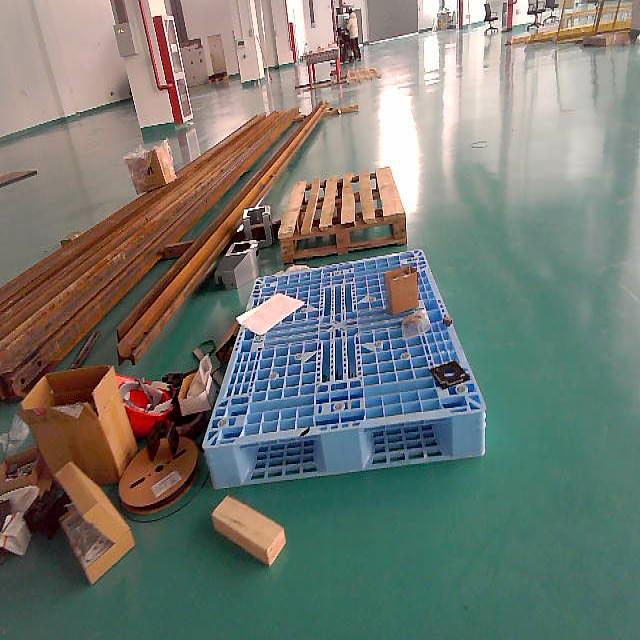euro: (278, 167, 409, 265)
